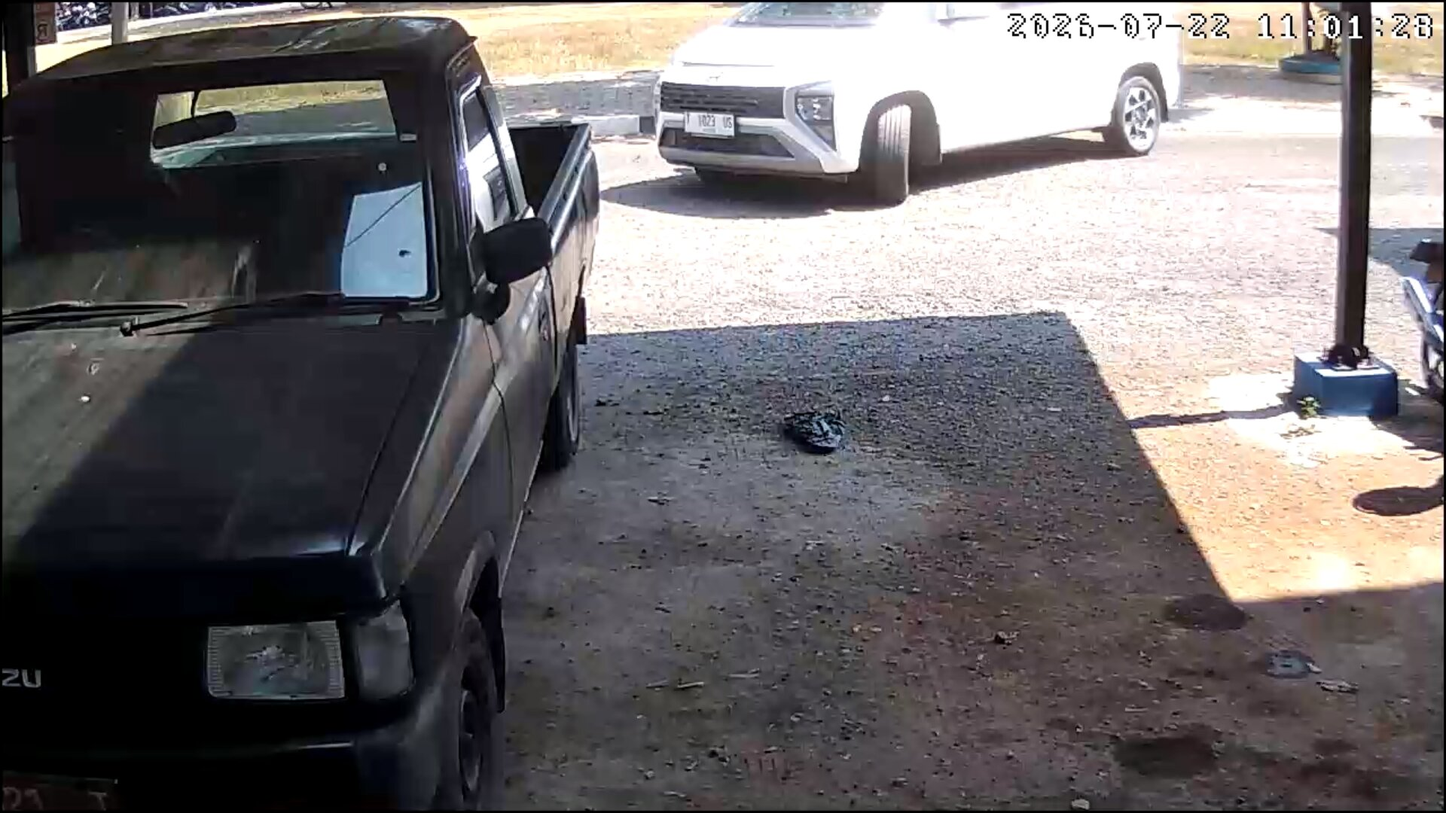plat nomor: (684, 111, 735, 138)
